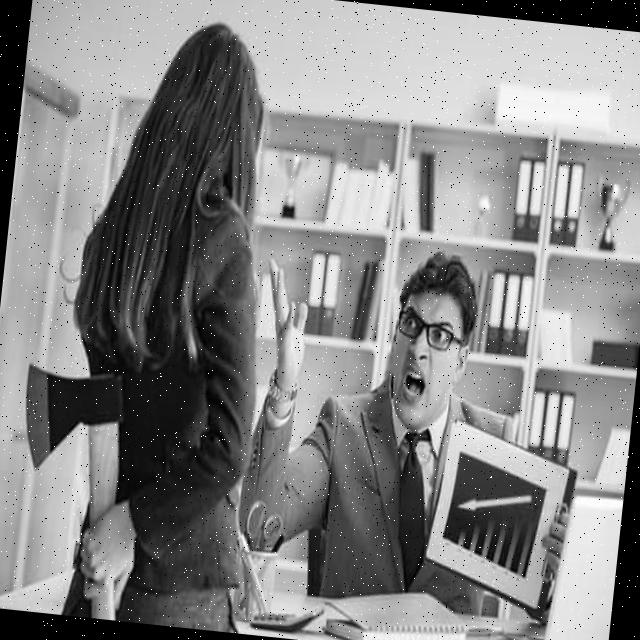Angry: (384, 286, 466, 433)
